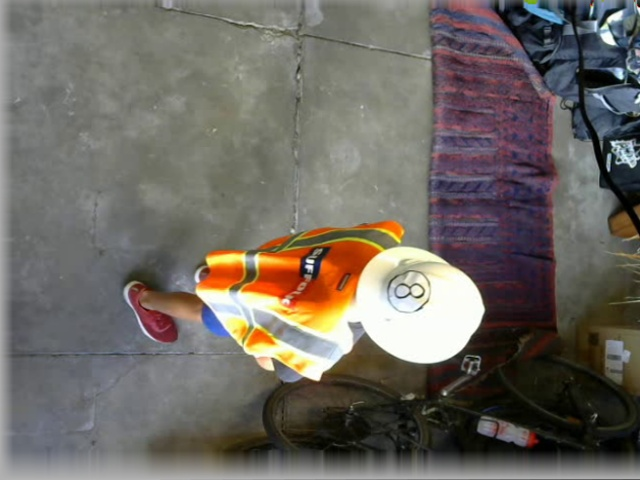eight: (386, 269, 431, 313)
